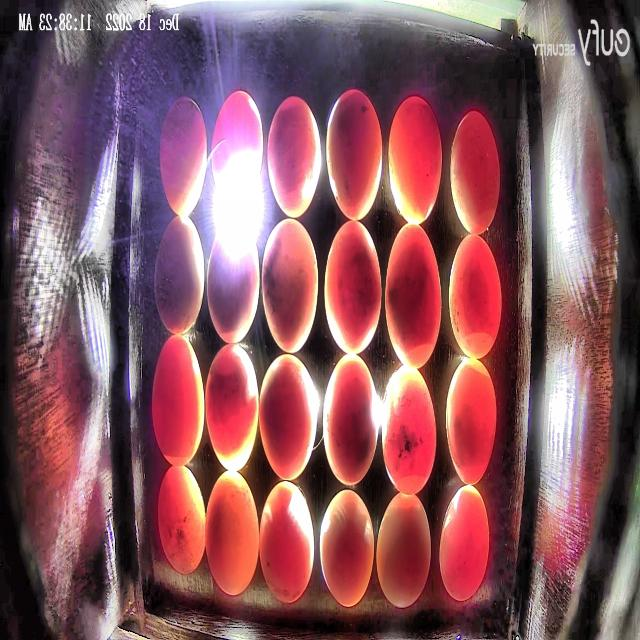FE: (386, 222, 441, 370), (261, 218, 318, 354), (326, 89, 384, 222), (325, 220, 381, 354), (382, 362, 437, 497), (323, 354, 378, 486), (259, 355, 316, 481), (151, 333, 205, 466), (204, 344, 259, 473), (388, 96, 442, 226), (266, 94, 322, 219), (448, 233, 503, 360), (204, 469, 259, 595), (444, 358, 498, 486), (259, 480, 315, 603), (376, 491, 432, 610), (319, 488, 375, 607), (450, 109, 500, 236), (439, 485, 490, 601), (155, 216, 205, 334), (160, 96, 208, 216), (157, 464, 206, 575)
